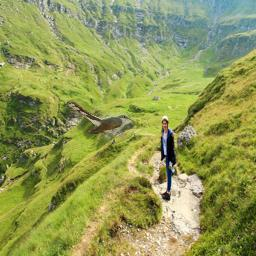Cuckoo: (67, 99, 135, 143)
